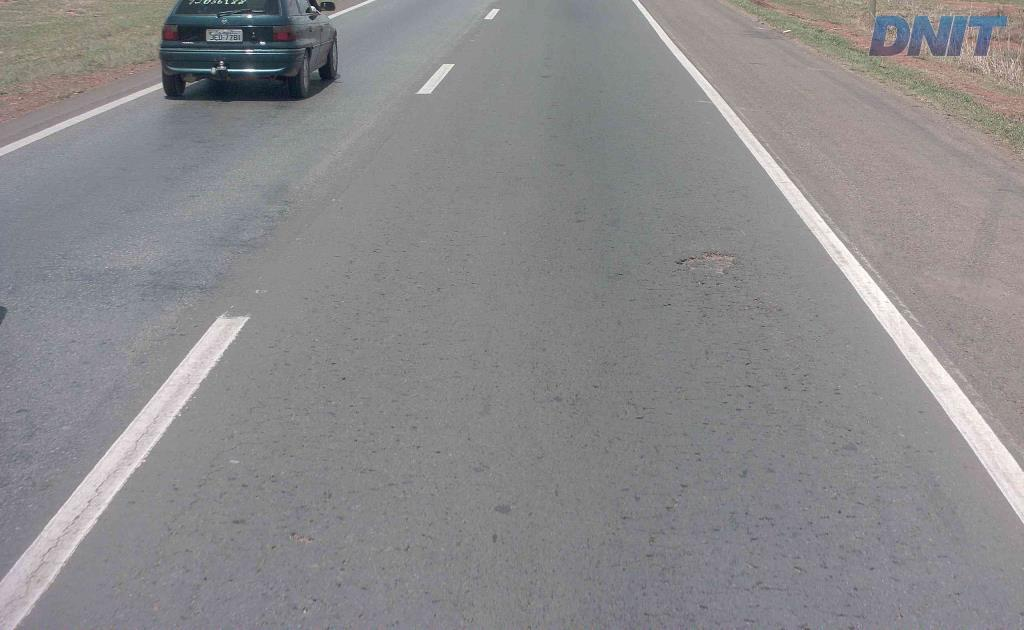pothole: (671, 246, 746, 280)
